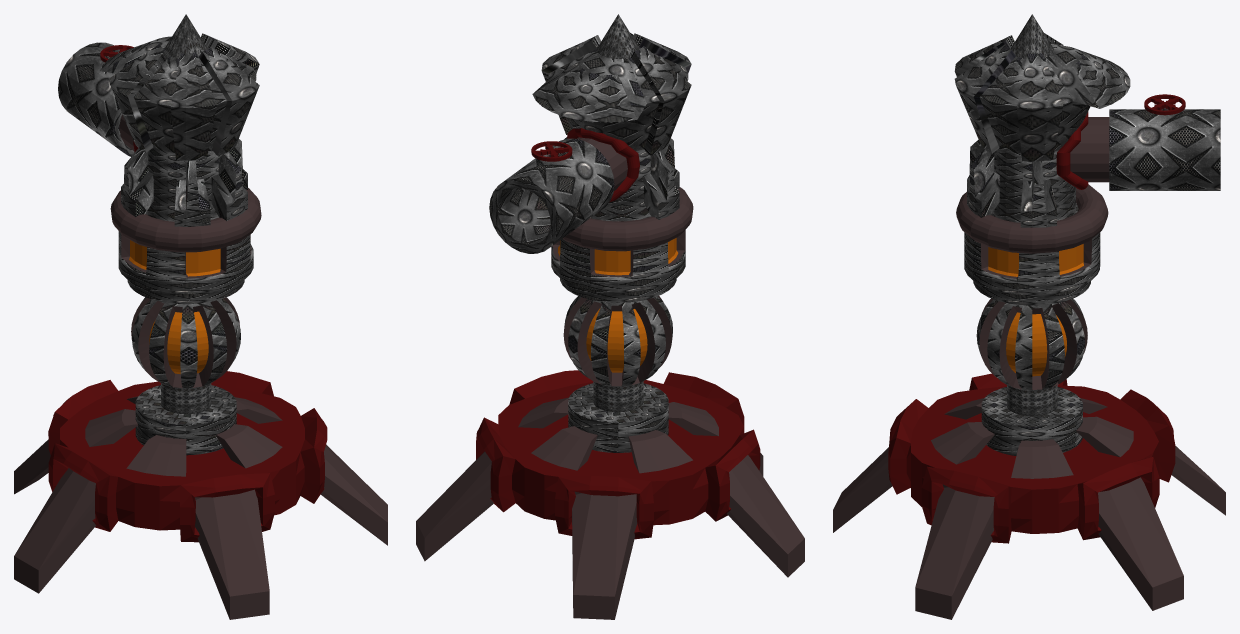
The model's file is Extractor.fbx.
The picture shows the model from 3 angles, left to right: view 1: azimuth 30°, elevation 25°; view 2: azimuth 150°, elevation 25°; view 3: azimuth 270°, elevation 25°; orthographic projection.
Visible parts, largest first — view 1: group6; view 2: group6; view 3: group6.
Part boxes in pixels (box(x1,y1,x2,y2)): group6: box(14, 14, 387, 619); group6: box(416, 14, 804, 619); group6: box(833, 14, 1225, 619).
Bounding box in the file's own units: 64.84 × 97.58 × 65.93.
Materials: 4 (1 with a texture image).
